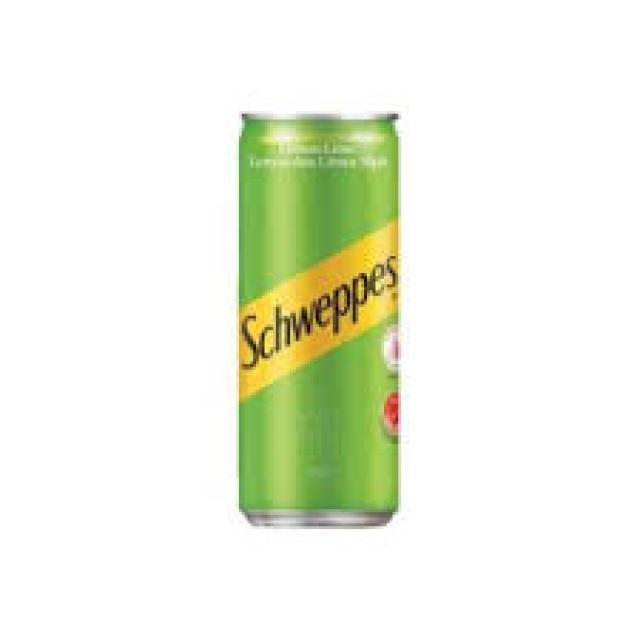Cans: (228, 94, 412, 540)
